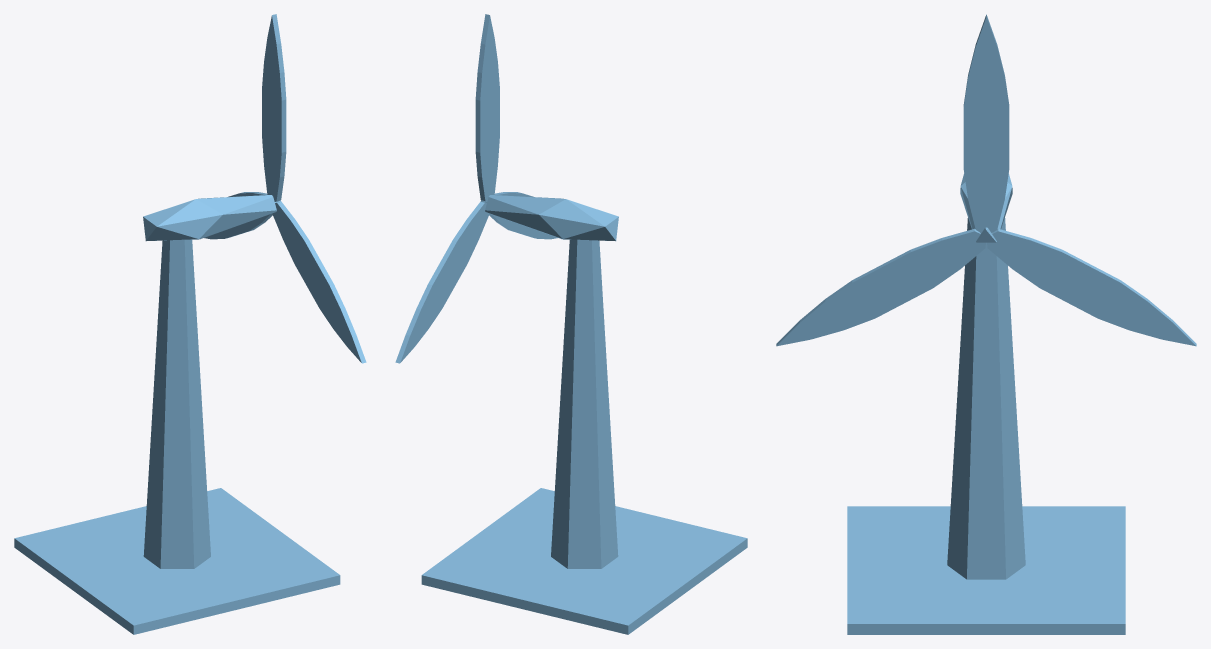
The model's file is windmill.glb.
The picture shows the model from 3 angles, left to right: view 1: azimuth 30°, elevation 25°; view 2: azimuth 150°, elevation 25°; view 3: azimuth 270°, elevation 25°; orthographic projection. The views are drawn at different scales.
Visible parts, largest first — view 1: Pole, Blades; view 2: Pole, Blades; view 3: Pole, Blades.
Part boxes in pixels (x1=…): Pole: x1=14, y1=195, x2=340, y2=634; Blades: x1=204, y1=14, x2=366, y2=363; Pole: x1=421, y1=195, x2=747, y2=634; Blades: x1=395, y1=14, x2=557, y2=363; Pole: x1=847, y1=173, x2=1125, y2=634; Blades: x1=776, y1=14, x2=1196, y2=346.
Bounding box in the file's own units: 2 × 4.88 × 3.02.
